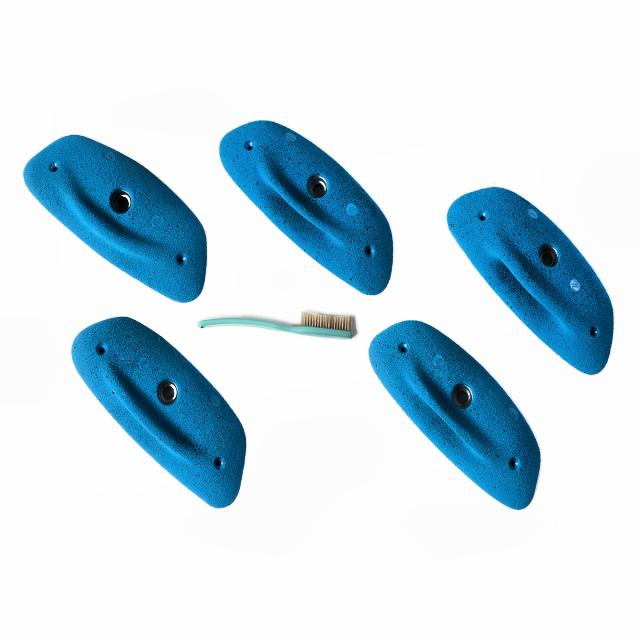Hold: (371, 314, 543, 514), (71, 318, 248, 508), (446, 182, 617, 376), (25, 130, 204, 304), (220, 115, 390, 292)
